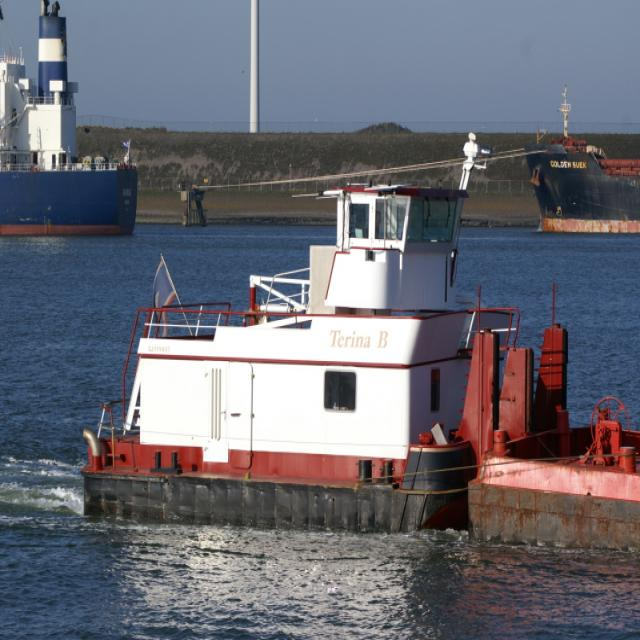tugboat: (80, 129, 575, 547)
